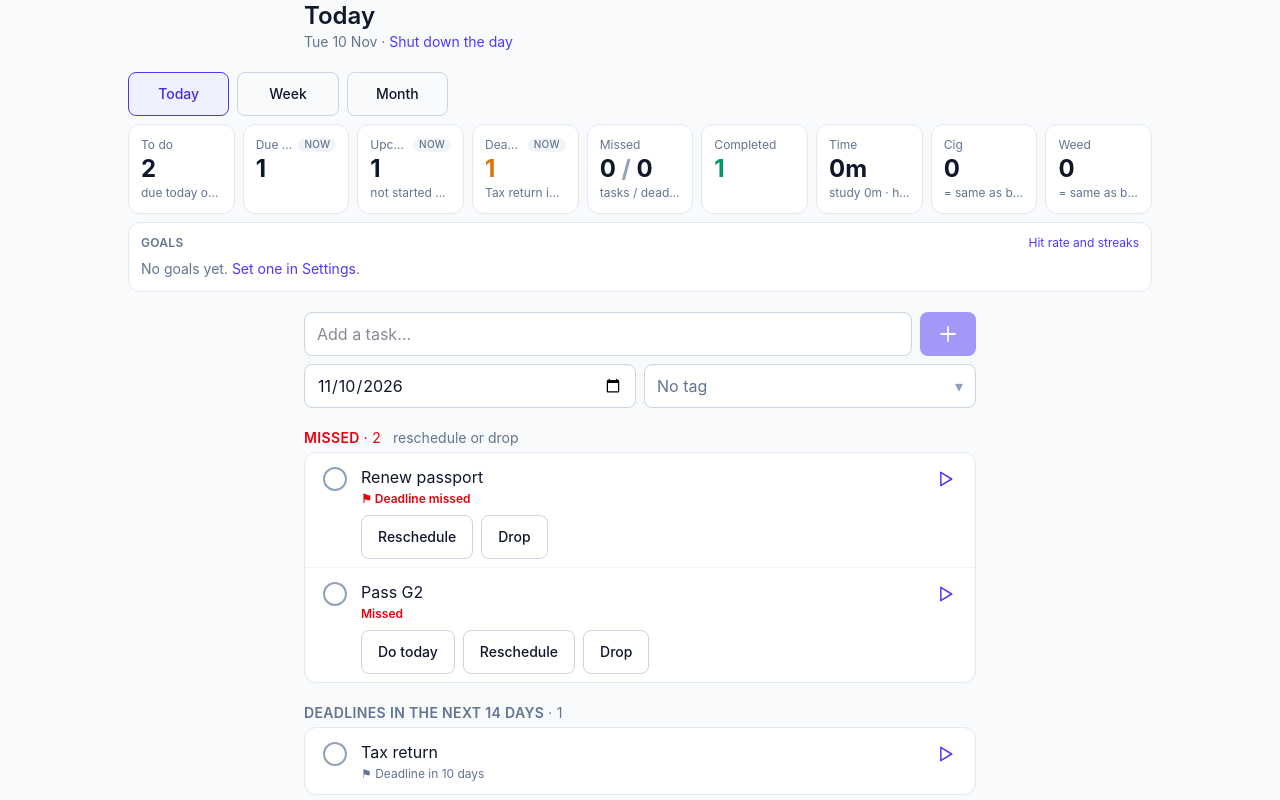
Test: Today › missed tasks can be moved to today, rescheduled or dropped; a missed deadline cannot just be moved
Click the button "Do today". click: (408, 652)
box: [361,630,455,674]
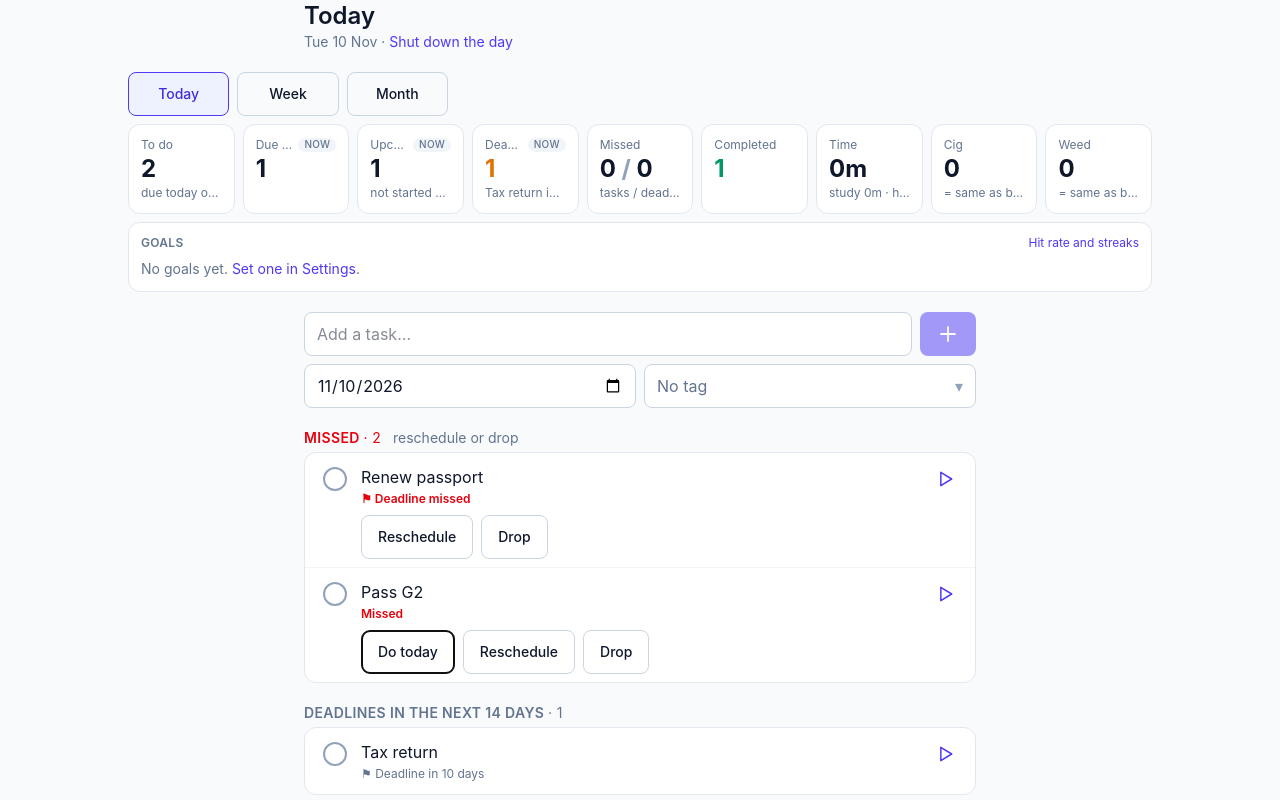
Click the 2nd button "Drop". click: (616, 652)
box: [583,630,649,674]
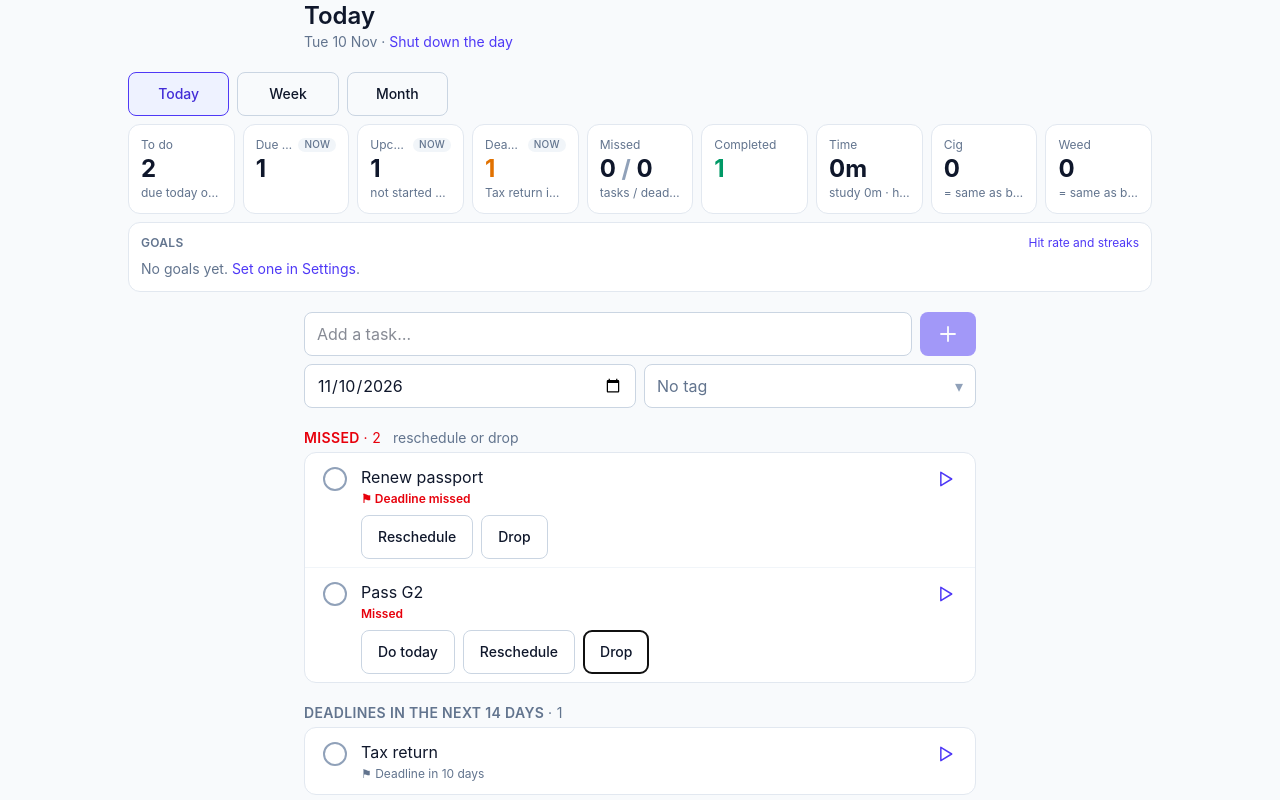
Click the 1st button "Reschedule". click: (417, 537)
box: [361,515,473,559]
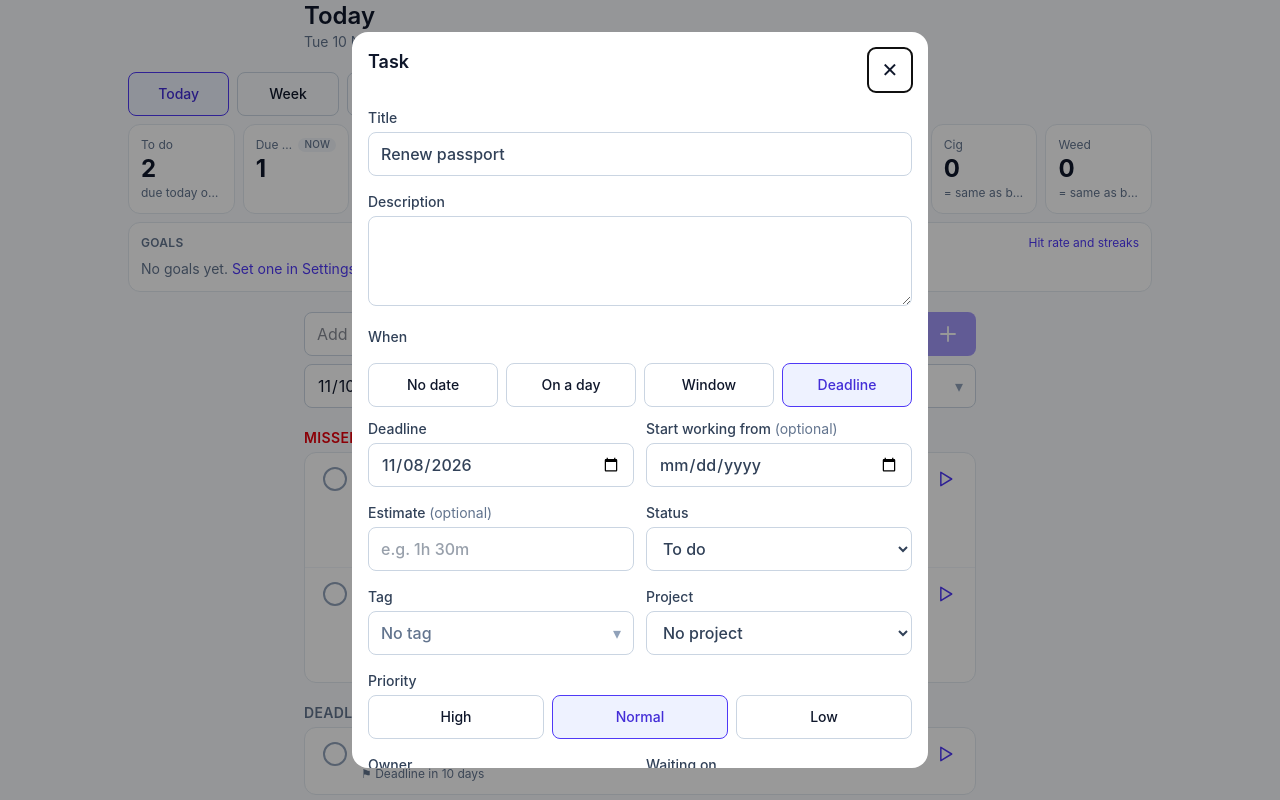
Expected: the field labelled "Title" holds "Renew passport", [368,132,912,176]
